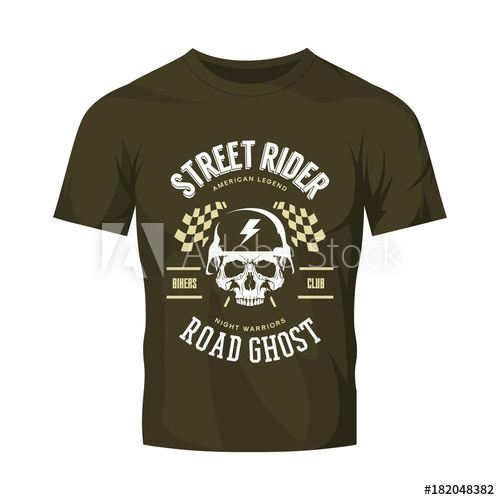with_helmet: (207, 209, 297, 276)
